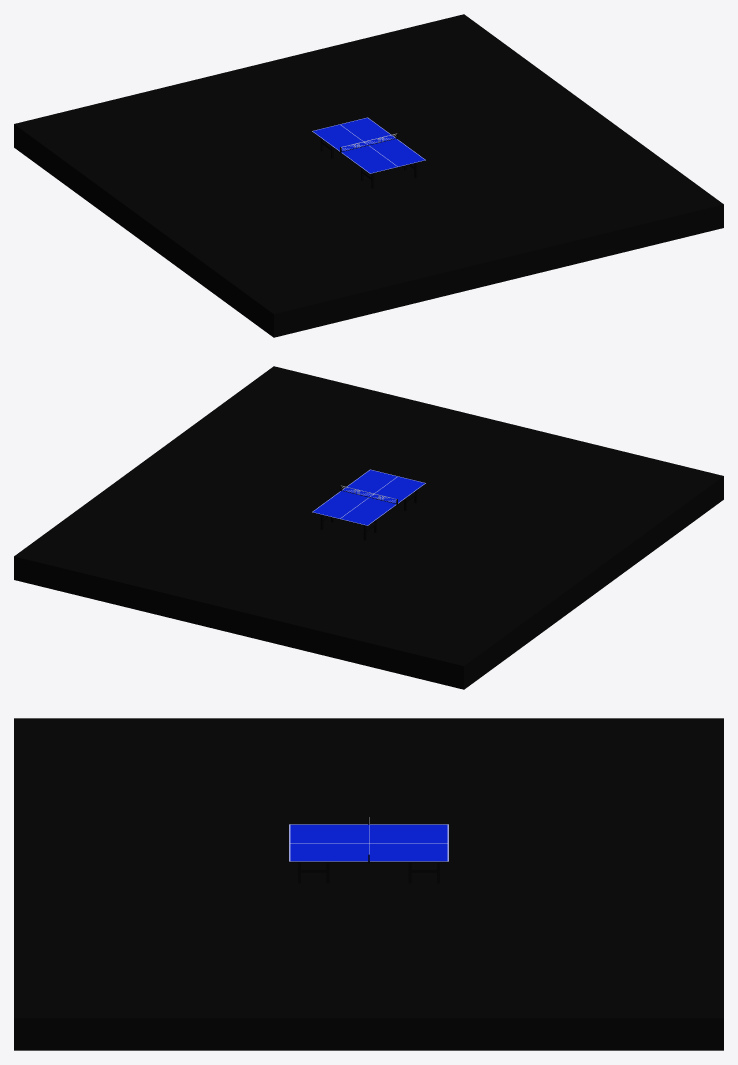
File: table-tennis.fbx
The picture shows the model from 3 angles, top to bottom: view 1: azimuth 30°, elevation 25°; view 2: azimuth 150°, elevation 25°; view 3: azimuth 270°, elevation 25°; orthographic projection. The views are drawn at different scales.
Parts seen in each view (by area): view 1: floor, table; view 2: floor, table; view 3: floor, table.
Boxes of the visible parts, x1,y1,x2,y2 form: floor: (14,14,723,337); table: (311,117,426,188); floor: (14,366,723,689); table: (311,469,426,540); floor: (14,718,723,1050); table: (289,824,448,883).
Bounding box in the file's own units: 4000 × 403 × 4000.
